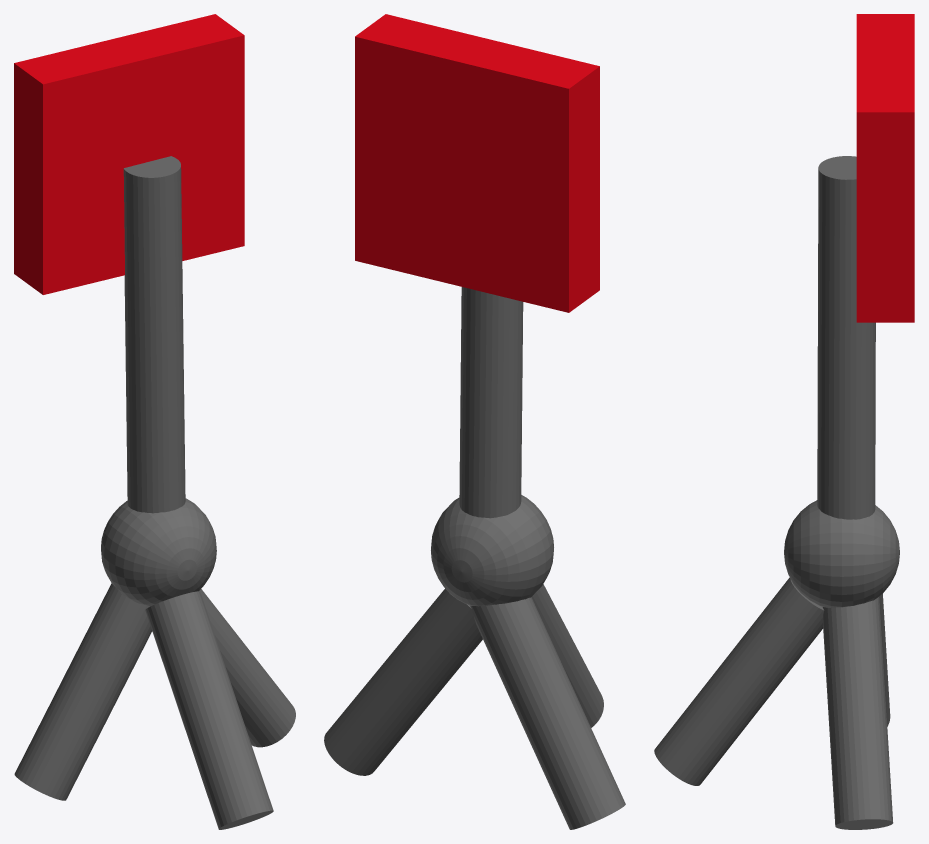
Rendered from Extender.fbx.
3 views of the same model, side by side, from view 1: azimuth 30°, elevation 25°; view 2: azimuth 150°, elevation 25°; view 3: azimuth 270°, elevation 25° (orthographic). The views are drawn at different scales.
Parts seen in each view (by area): view 1: Cube; view 2: Cube; view 3: Cube.
Part boxes in pixels (x1,y1,x2,y2): Cube: (14, 14, 295, 829); Cube: (324, 14, 625, 829); Cube: (654, 14, 914, 829).
Bounding box in the file's own units: 272 × 680 × 224.
